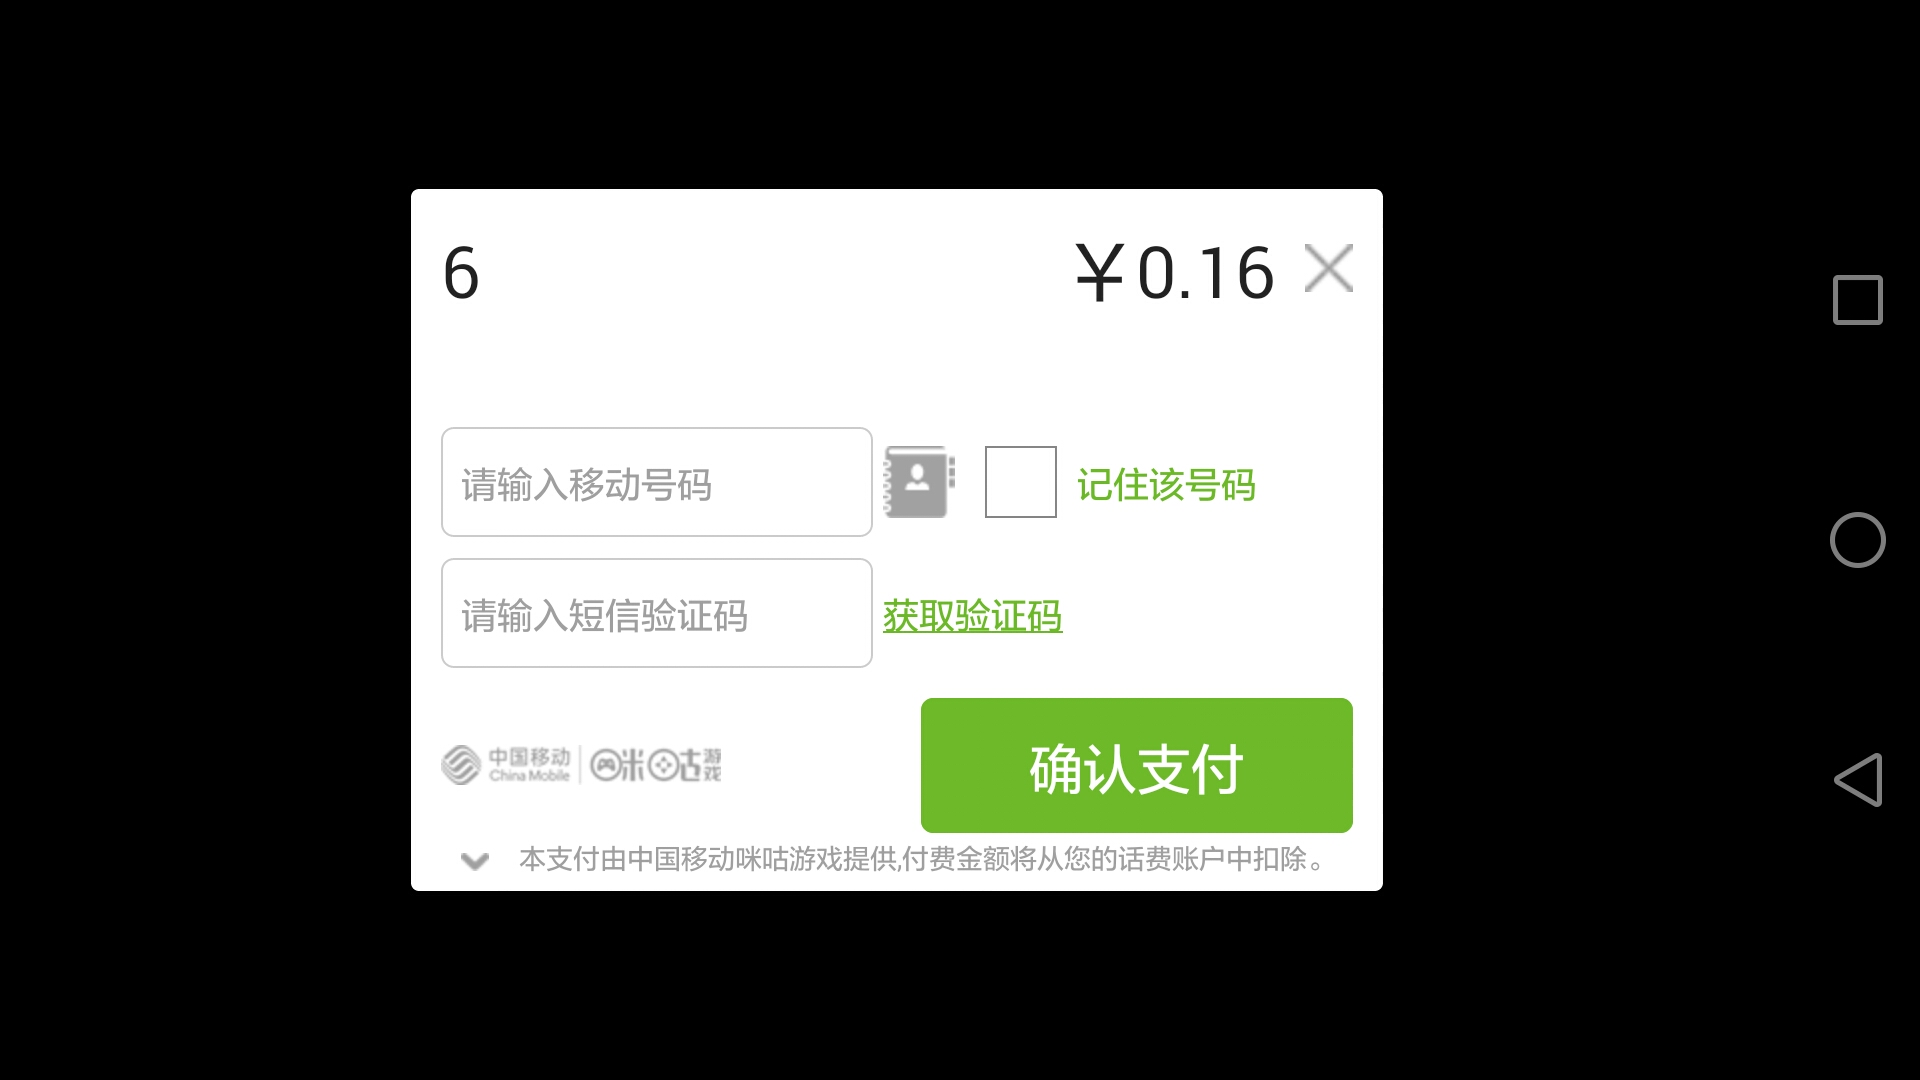checkbox: (971, 439, 1265, 527)
